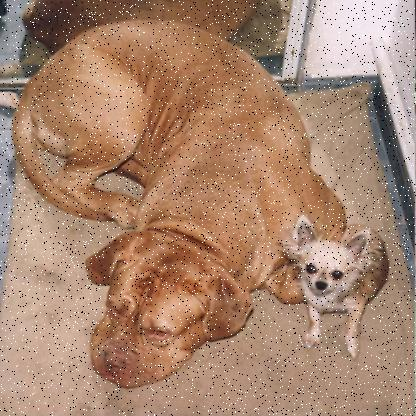dog: (10, 23, 336, 392), (293, 212, 391, 363)
